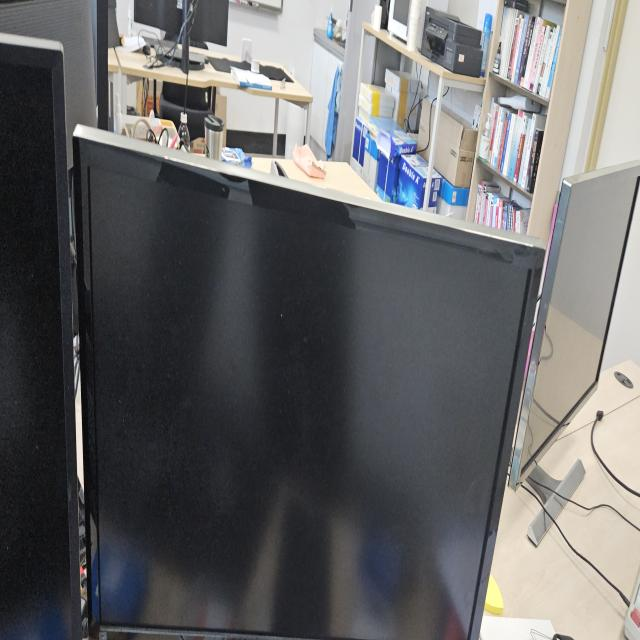Monitor: (70, 117, 546, 635)
